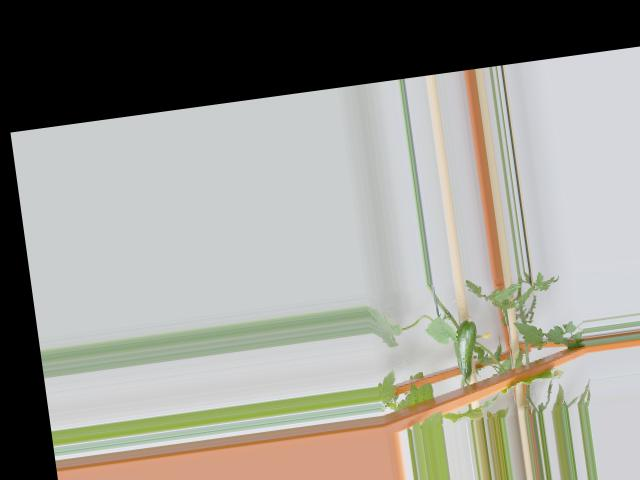cucumber: (450, 314, 482, 377)
